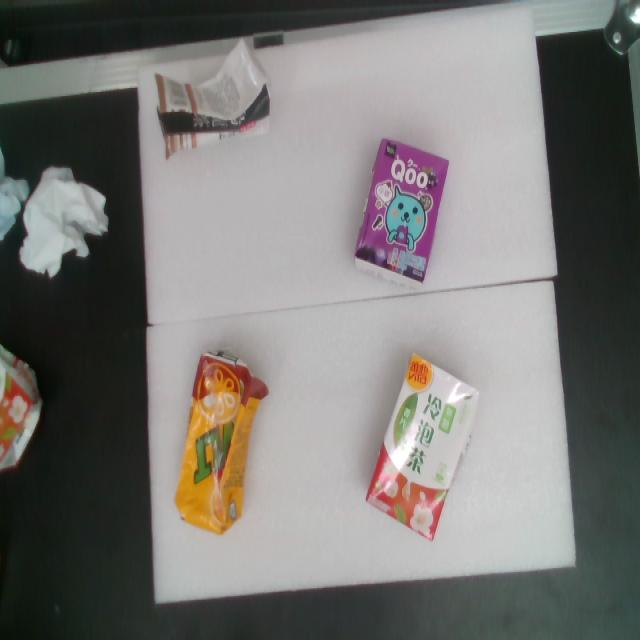juicebox: (349, 340, 507, 558), (153, 336, 282, 552), (126, 29, 293, 171), (336, 126, 462, 303)
